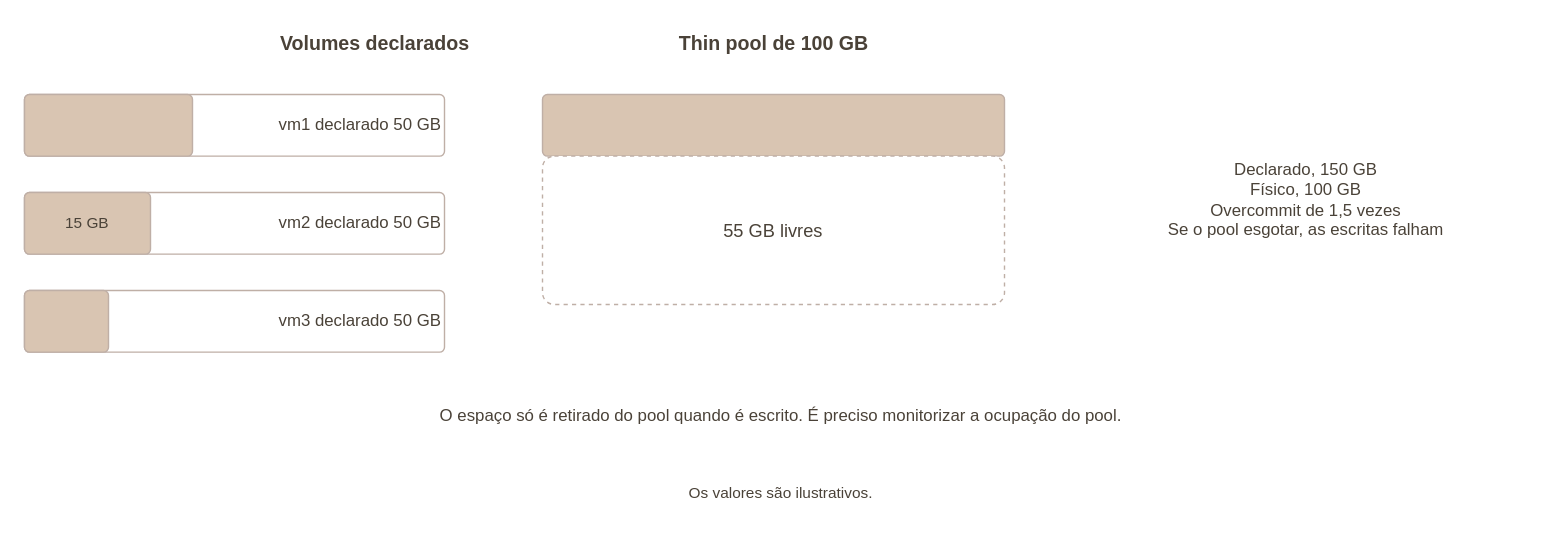
Image size: 1561x538. Some labels were removed from this diagram. The centre of each missing label's shape, as x and y in pixels:
"10 GB" goes at pixel 65 320.
"20 GB" goes at pixel 107 124.
"45 GB realmente escritos" goes at pixel 772 124.
